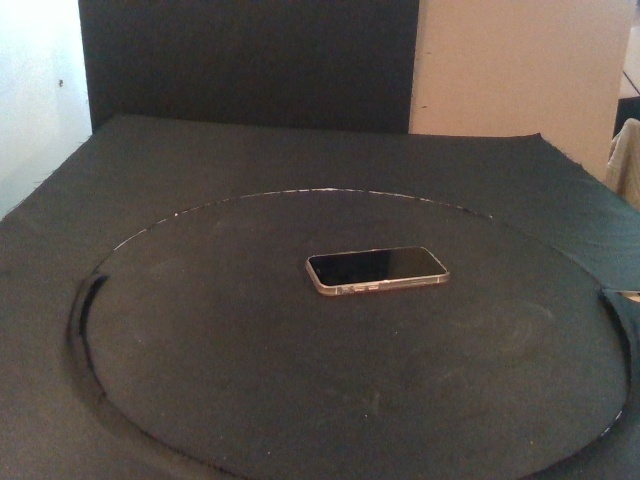phone: (305, 245, 450, 295)
